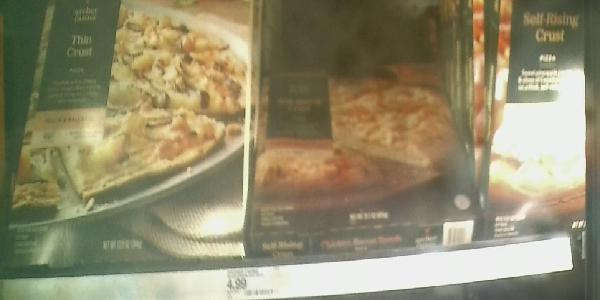pizza1: (8, 1, 250, 263), (255, 66, 483, 245)
